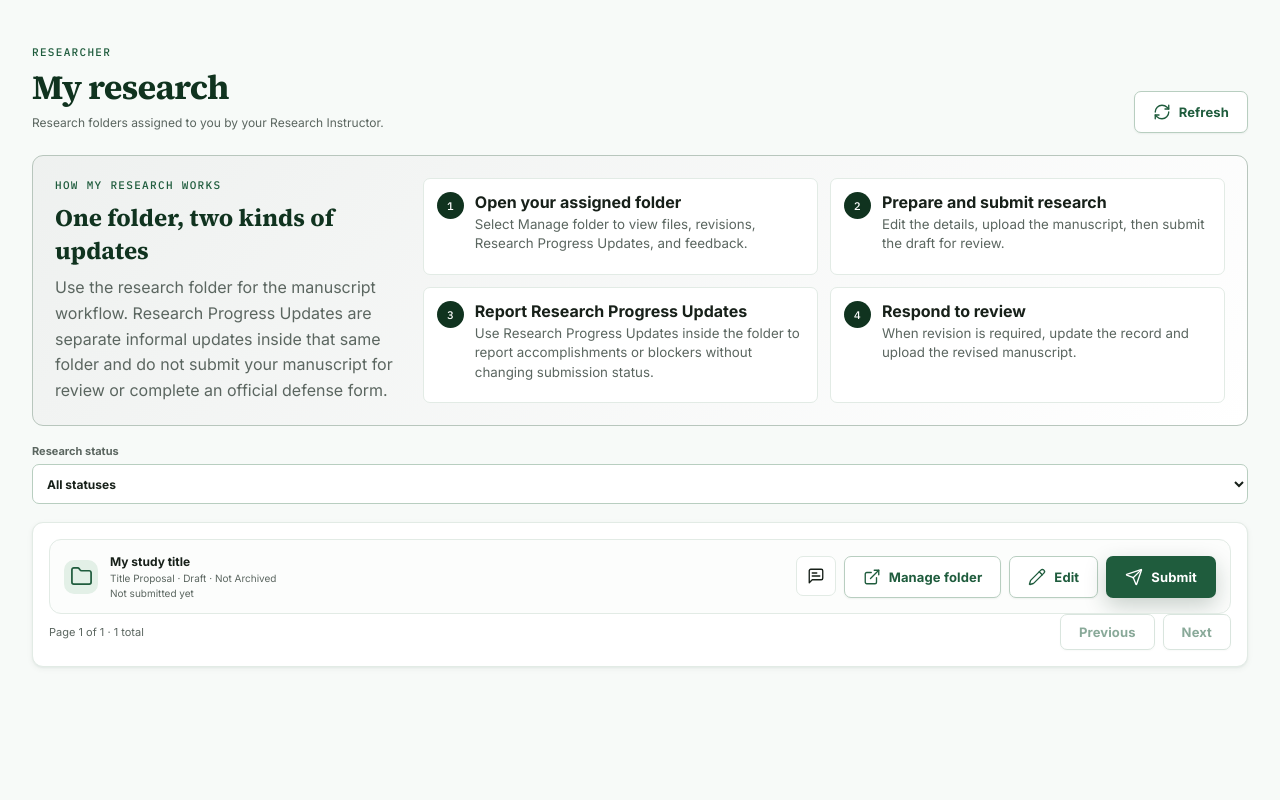
it: role workspace pages › submits a draft from My Submissions and refetches the authoritative row
Check: the heading "My research" is shown, box x1=32 y1=64 x2=229 y2=110
Click the button "Submit" at [1161, 577], box x1=1106 y1=556 x2=1216 y2=598
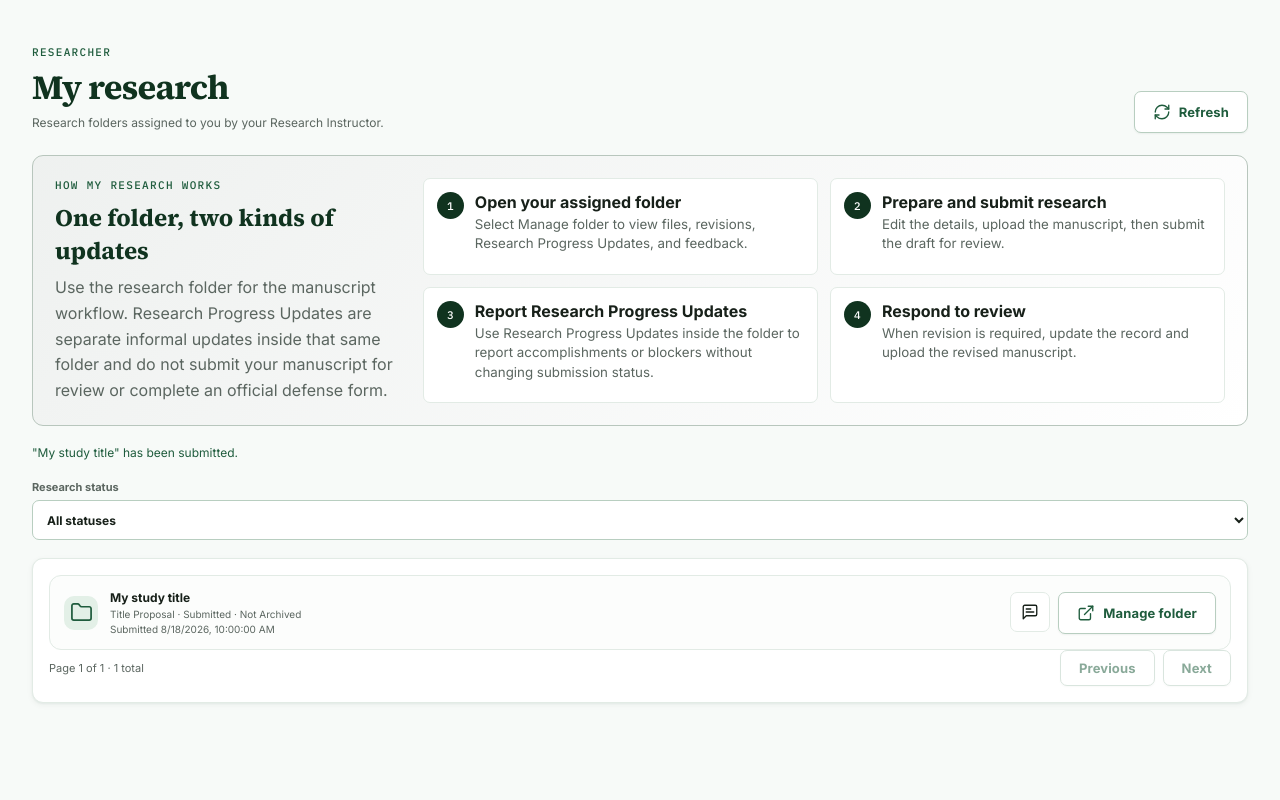
Check: the text "\"My study title\" has been submitted." is shown, box x1=32 y1=445 x2=238 y2=460
